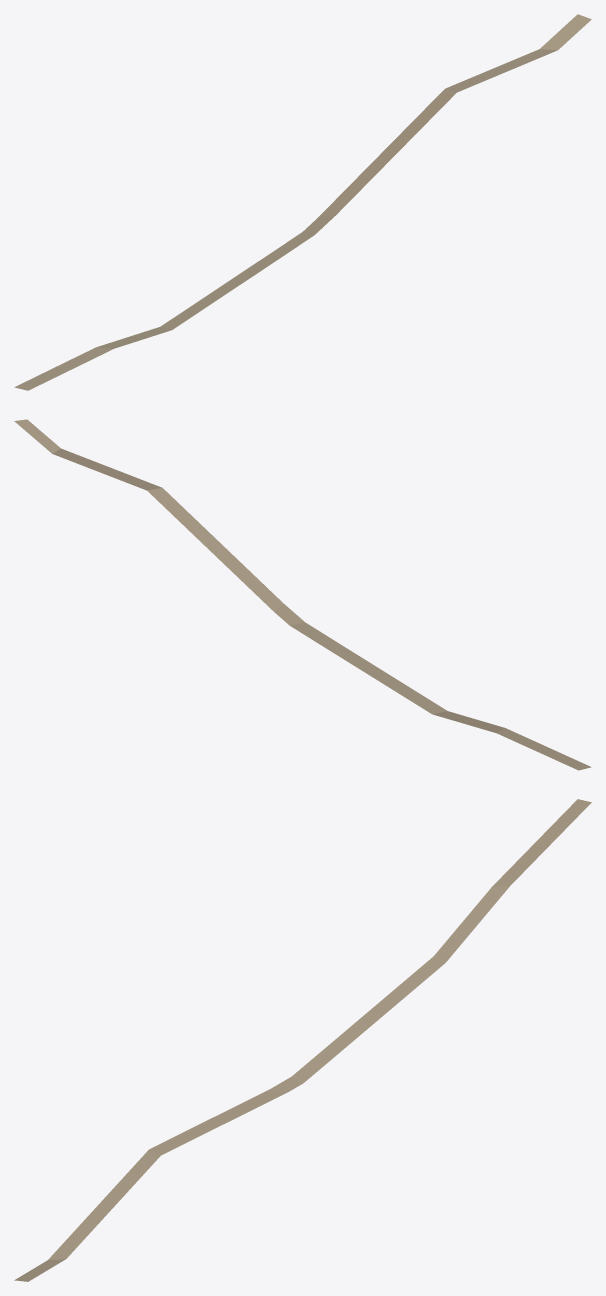
File: farm_-63_-52_track.glb
3 renders of one model, top to bottom at view 1: azimuth 90°, elevation 25°; view 2: azimuth 150°, elevation 25°; view 3: azimuth 270°, elevation 25°, orthographic. The views are drawn at different scales.
Visible parts, largest first — view 1: geometry_0; view 2: geometry_0; view 3: geometry_0.
Boxes of the visible parts, <box> form: geometry_0: <box>14,14,591,390</box>; geometry_0: <box>14,419,591,770</box>; geometry_0: <box>14,799,591,1281</box>.
Size of the model in its own units: 205 by 13.97 by 116.
